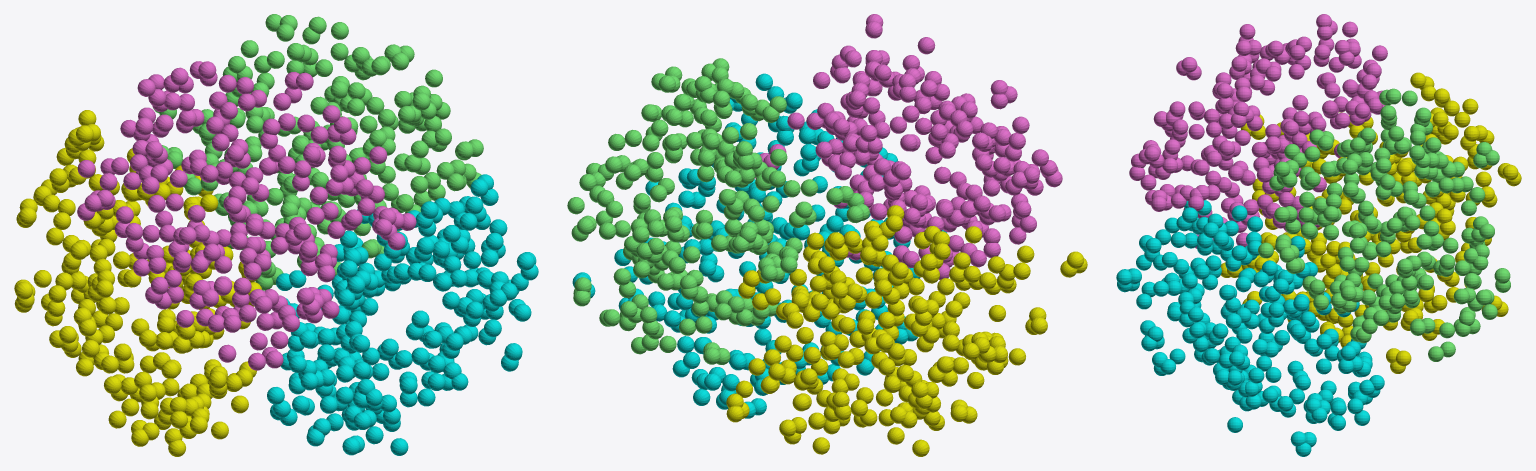
Rendered from 4hhb__spheres__chain__H.glb.
3 renders of one model, left to right at view 1: azimuth 30°, elevation 25°; view 2: azimuth 150°, elevation 25°; view 3: azimuth 270°, elevation 25°, orthographic. The views are drawn at different scales.
Visible parts, largest first — view 1: Renderer Node; view 2: Renderer Node; view 3: Renderer Node.
Part boxes in pixels (x1,y1,x2,y2): Renderer Node: (14, 14, 538, 456); Renderer Node: (567, 14, 1087, 456); Renderer Node: (1116, 14, 1521, 456).
Bounding box in the file's own units: 70.81 × 60.34 × 61.02.
